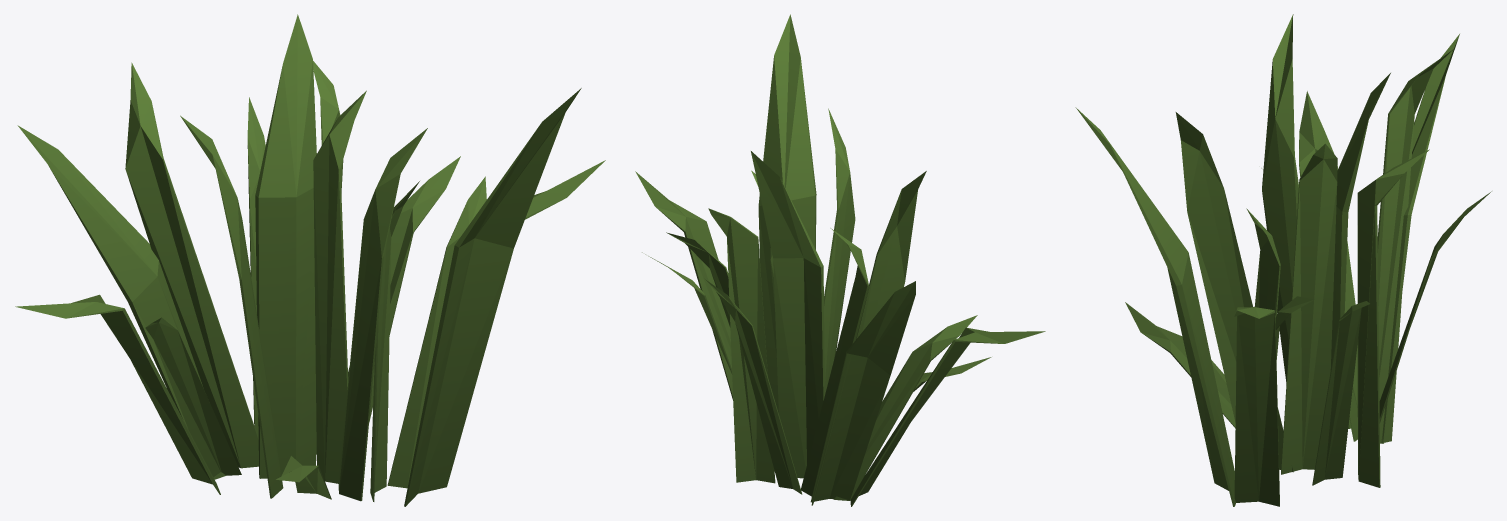
Rendered from Env_Grass_Patch_Green_05.obj.
The picture shows the model from 3 angles, left to right: view 1: azimuth 30°, elevation 25°; view 2: azimuth 150°, elevation 25°; view 3: azimuth 270°, elevation 25°; orthographic projection. The views are drawn at different scales.
Parts seen in each view (by area): view 1: Env_Grass_Patch_Green_05; view 2: Env_Grass_Patch_Green_05; view 3: Env_Grass_Patch_Green_05.
Part boxes in pixels (<box>): Env_Grass_Patch_Green_05: <box>15,14,605,506</box>; Env_Grass_Patch_Green_05: <box>635,14,1045,506</box>; Env_Grass_Patch_Green_05: <box>1075,14,1491,506</box>.
Bounding box in the file's own units: 0.5578 × 0.4305 × 0.3843.
Materials: 1 (1 with a texture image).
